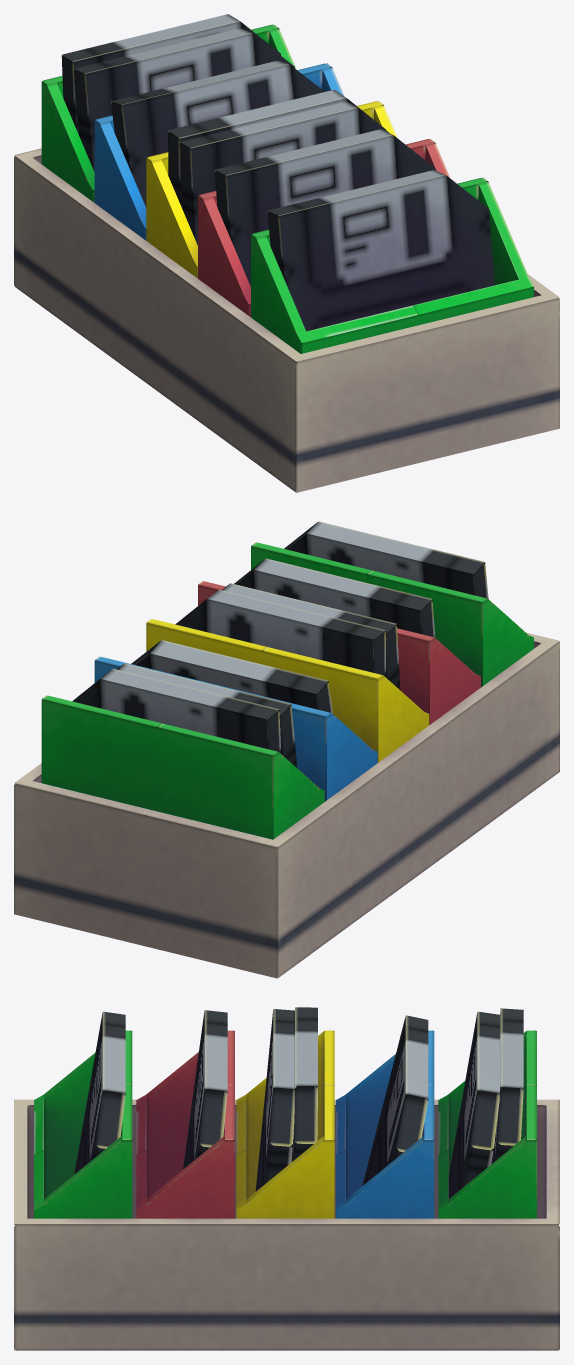
Rendered from floppycontainerwithfloppys.obj.
3 renders of one model, top to bottom at view 1: azimuth 30°, elevation 25°; view 2: azimuth 150°, elevation 25°; view 3: azimuth 270°, elevation 25°, orthographic. The views are drawn at different scales.
Visible parts, largest first — view 1: FloppyContainer(WithFloppys); view 2: FloppyContainer(WithFloppys); view 3: FloppyContainer(WithFloppys).
Boxes of the visible parts, box(x1,y1,x2,y2) form: FloppyContainer(WithFloppys): box(14, 14, 559, 492); FloppyContainer(WithFloppys): box(14, 521, 559, 978); FloppyContainer(WithFloppys): box(14, 1007, 559, 1350).
Size of the model in its own units: 0.3337 by 0.2914 by 0.6193.
Materials: 2 (2 with a texture image).
